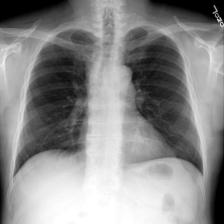normal: (11, 20, 210, 188)
